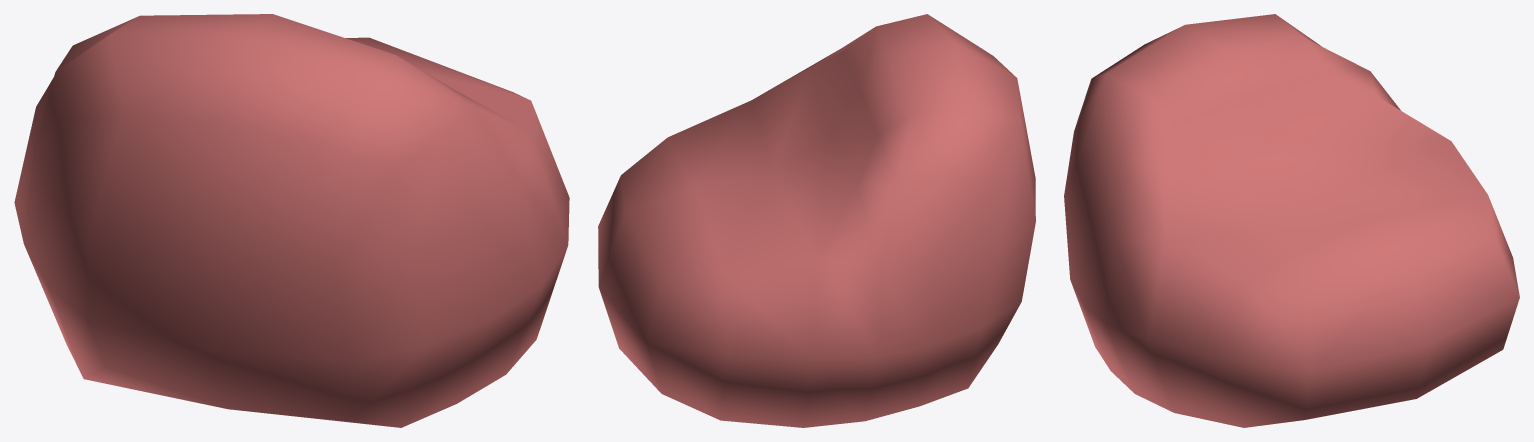
The model's file is Bedroom_Beanbag.fbx.
3 views of the same model, side by side, from view 1: azimuth 30°, elevation 25°; view 2: azimuth 150°, elevation 25°; view 3: azimuth 270°, elevation 25° (orthographic). The views are drawn at different scales.
Parts seen in each view (by area): view 1: pCube23; view 2: pCube23; view 3: pCube23.
Boxes of the visible parts, x1,y1,x2,y2 form: pCube23: (14, 14, 569, 427); pCube23: (598, 14, 1035, 427); pCube23: (1064, 14, 1519, 427).
Size of the model in its own units: 7.76 by 5.57 by 7.9.
